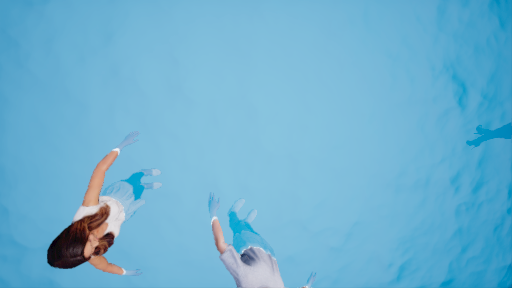person: (44, 135, 173, 276), (198, 191, 324, 288)
